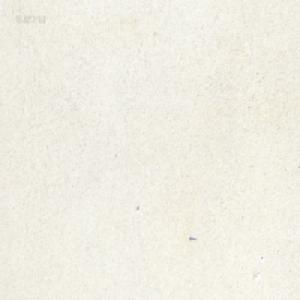Nail: (189, 235, 196, 240)
